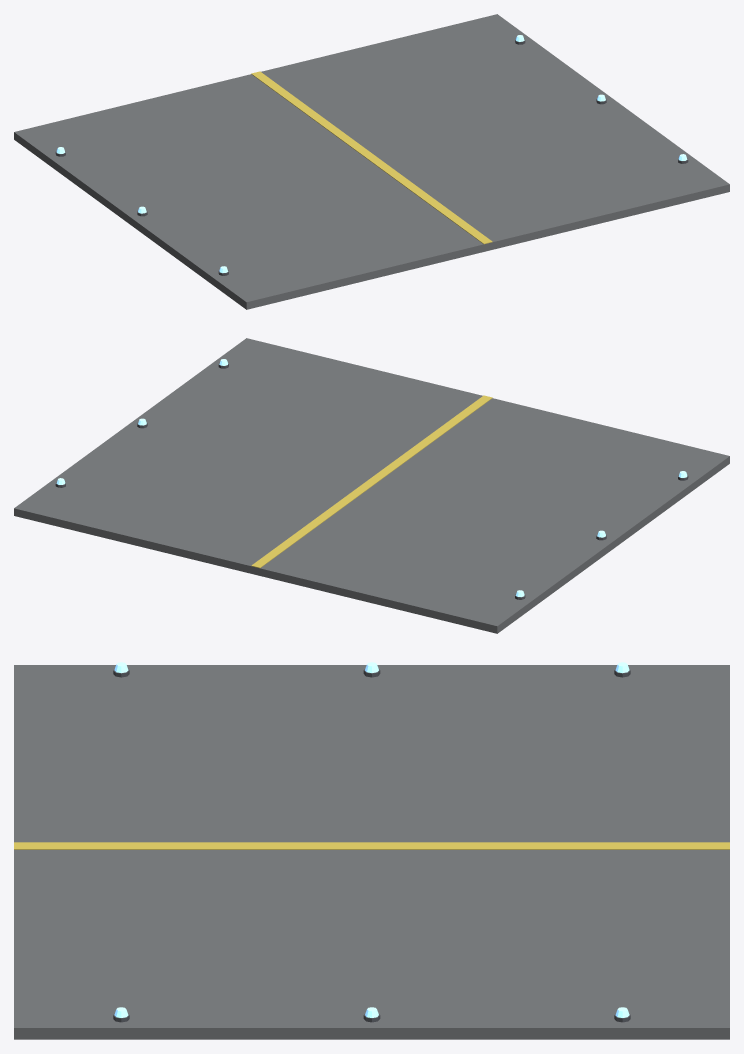
The model's file is aircraft-fleet-and-airfield-taxiway-slab-555a6916__32815.glb.
The picture shows the model from 3 angles, top to bottom: view 1: azimuth 30°, elevation 25°; view 2: azimuth 150°, elevation 25°; view 3: azimuth 270°, elevation 25°; orthographic projection. The views are drawn at different scales.
Visible parts, largest first — view 1: taxiway-slab; view 2: taxiway-slab; view 3: taxiway-slab.
Boxes of the visible parts, bbox=[...] form: taxiway-slab: bbox=[14, 14, 729, 309]; taxiway-slab: bbox=[14, 338, 729, 633]; taxiway-slab: bbox=[14, 662, 729, 1039].
Bounding box in the file's own units: 12 × 0.3304 × 10.
